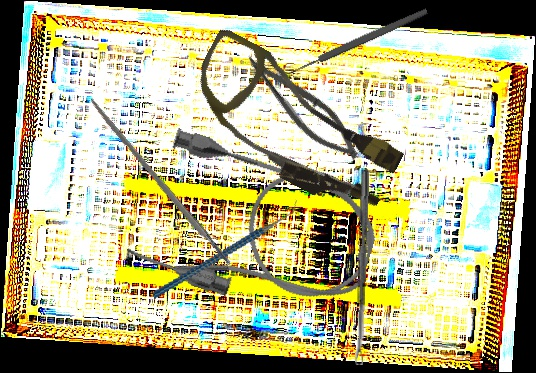Cannula: (122, 124, 390, 333), (172, 26, 417, 224)
Chopper: (139, 197, 311, 300)
Micro Scissor: (233, 47, 371, 169)
Scalpel Handle: (86, 96, 234, 269)
Surgical Spoon: (272, 6, 429, 84), (353, 169, 370, 366)
